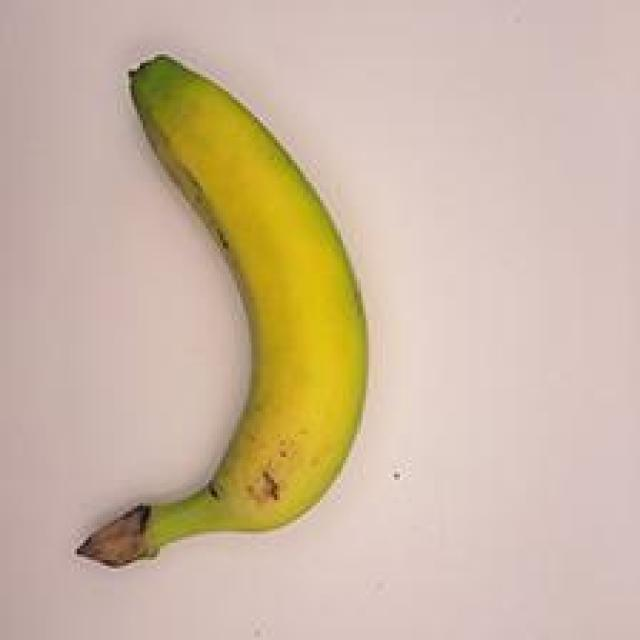unripe: (79, 39, 394, 580)
